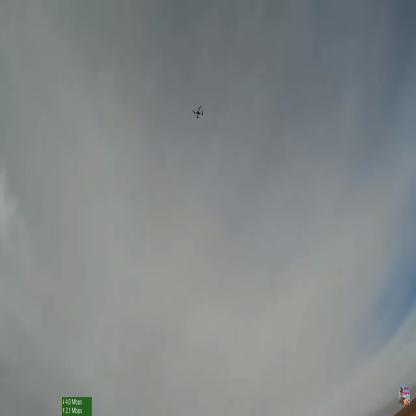drone: (191, 101, 204, 124)
